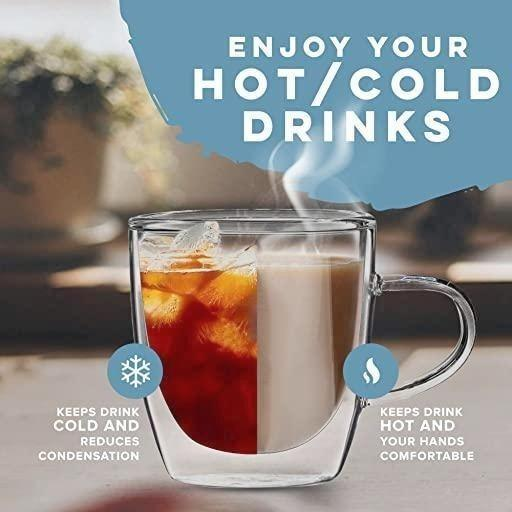glass-mug: (125, 206, 482, 494)
